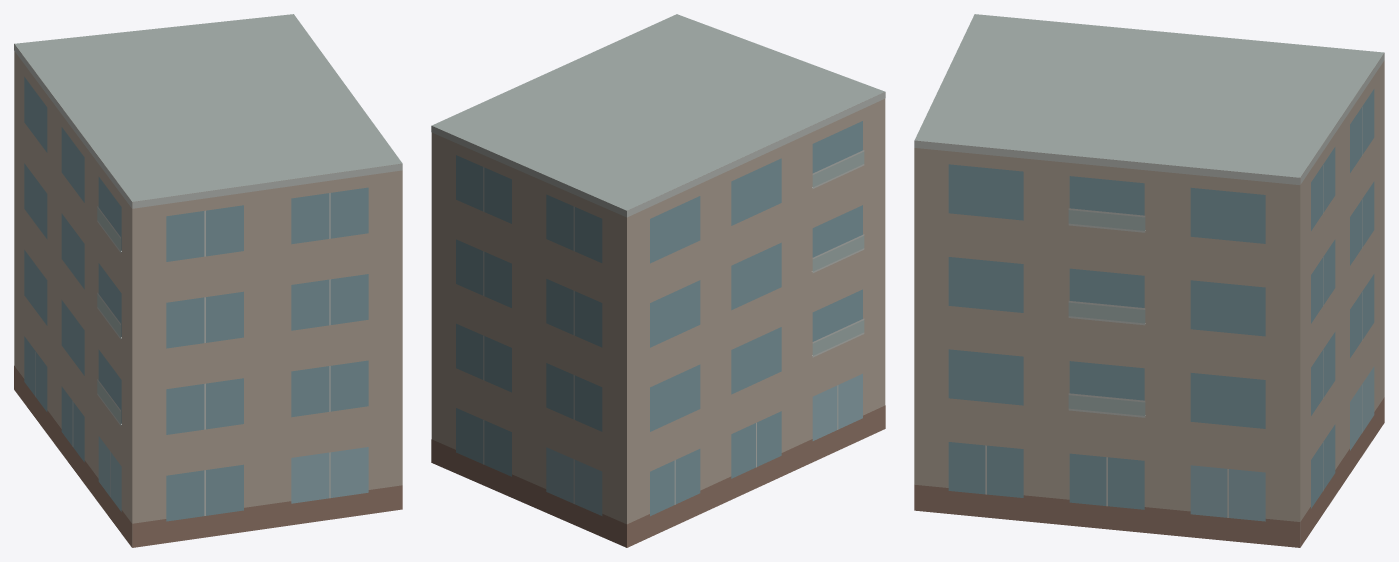
The model's file is survey-upis-32810976.glb.
3 renders of one model, left to right at view 1: azimuth 30°, elevation 25°; view 2: azimuth 150°, elevation 25°; view 3: azimuth 270°, elevation 25°, orthographic. The views are drawn at different scales.
Visible parts, largest first — view 1: survey-upis-32810976.tmp; view 2: survey-upis-32810976.tmp; view 3: survey-upis-32810976.tmp.
Part boxes in pixels (x1,y1,x2,y2): survey-upis-32810976.tmp: (14, 14, 402, 547); survey-upis-32810976.tmp: (431, 14, 885, 547); survey-upis-32810976.tmp: (914, 14, 1384, 547).
Size of the model in its own units: 11.59 by 12.2 by 14.06.
